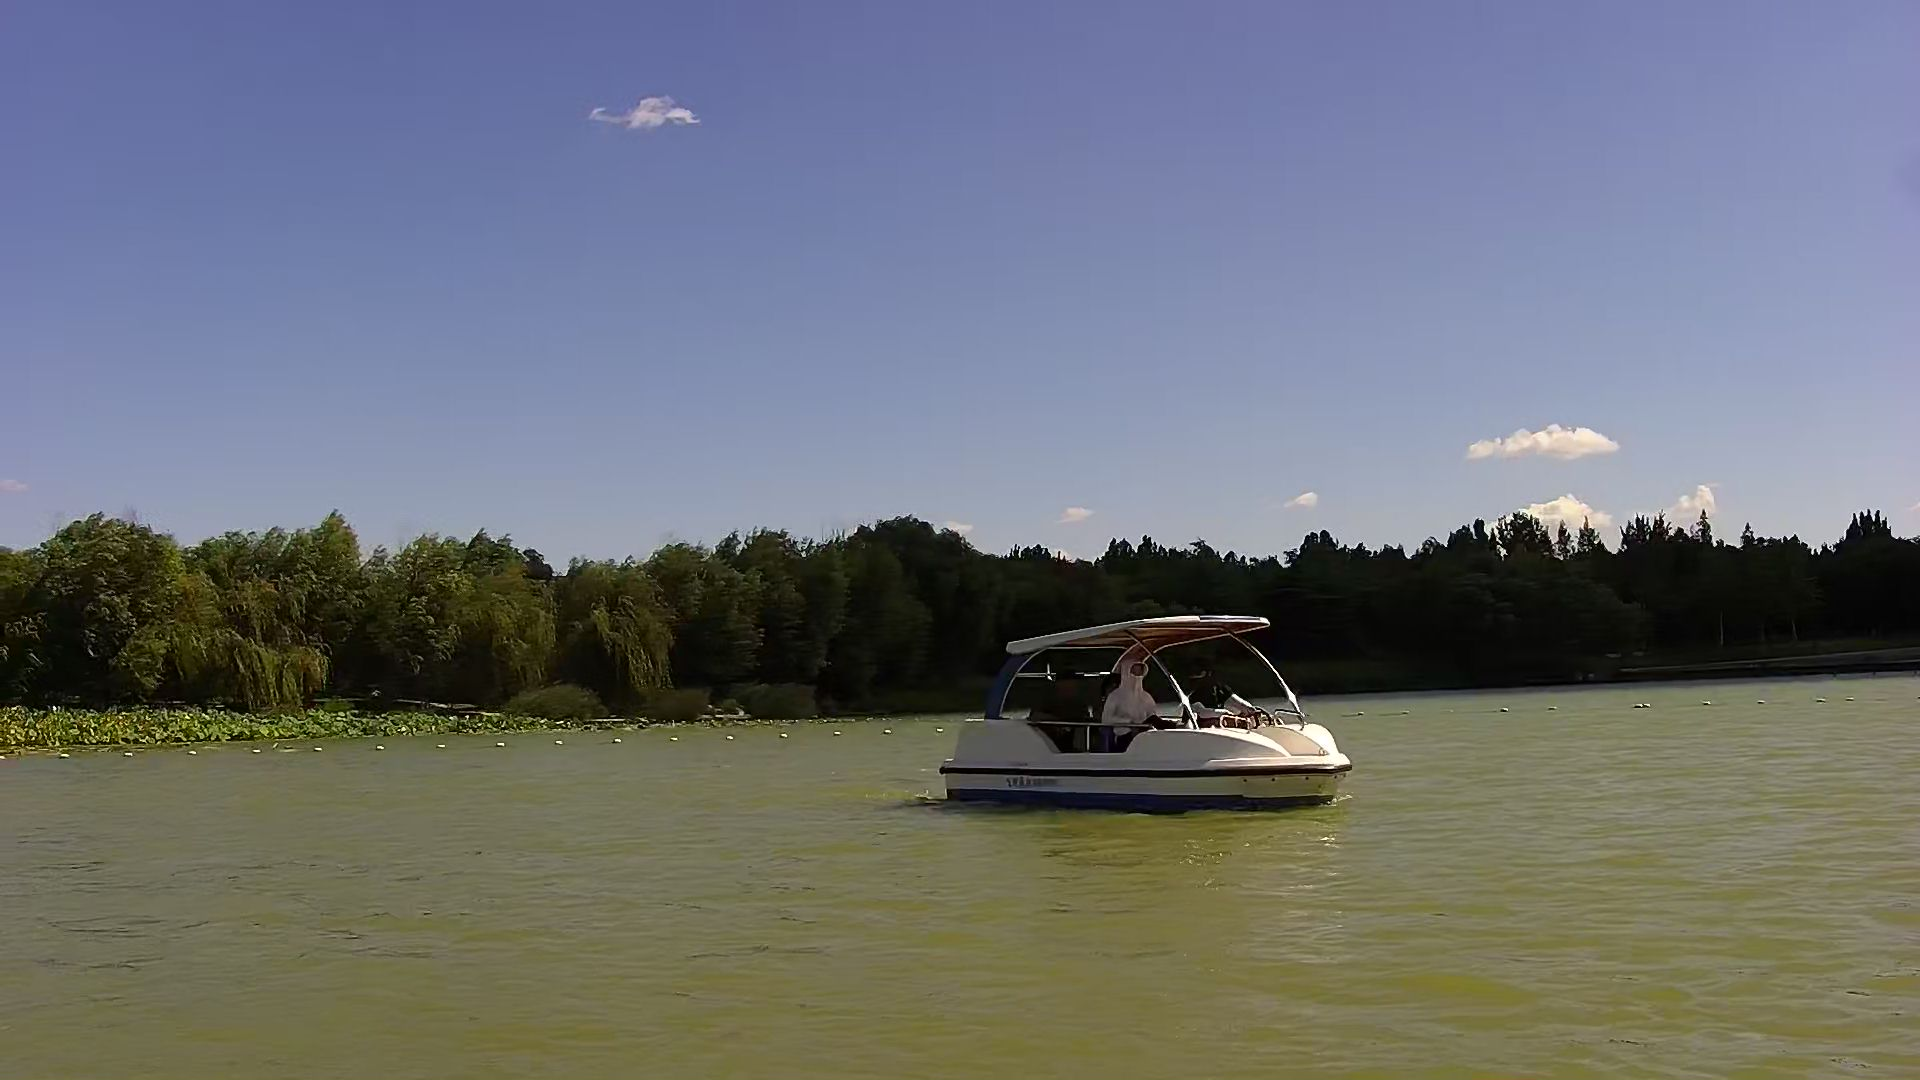boat: (936, 611, 1342, 845)
